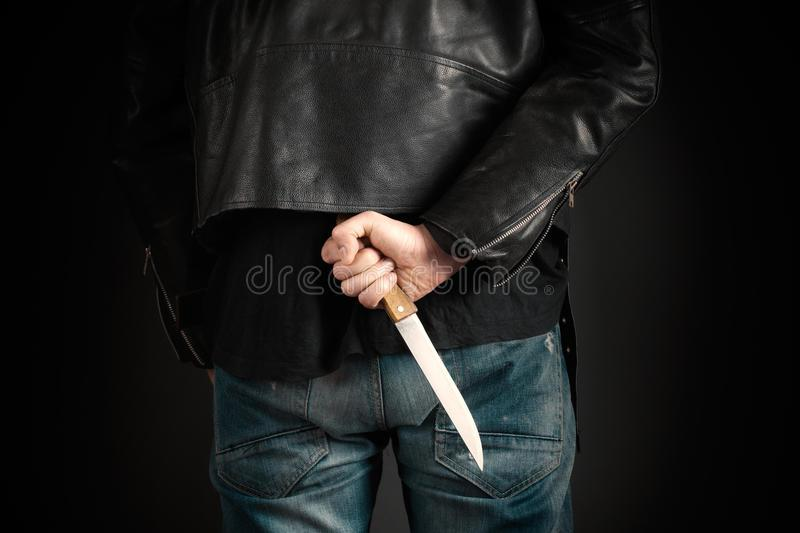weapon: (355, 233, 489, 472)
